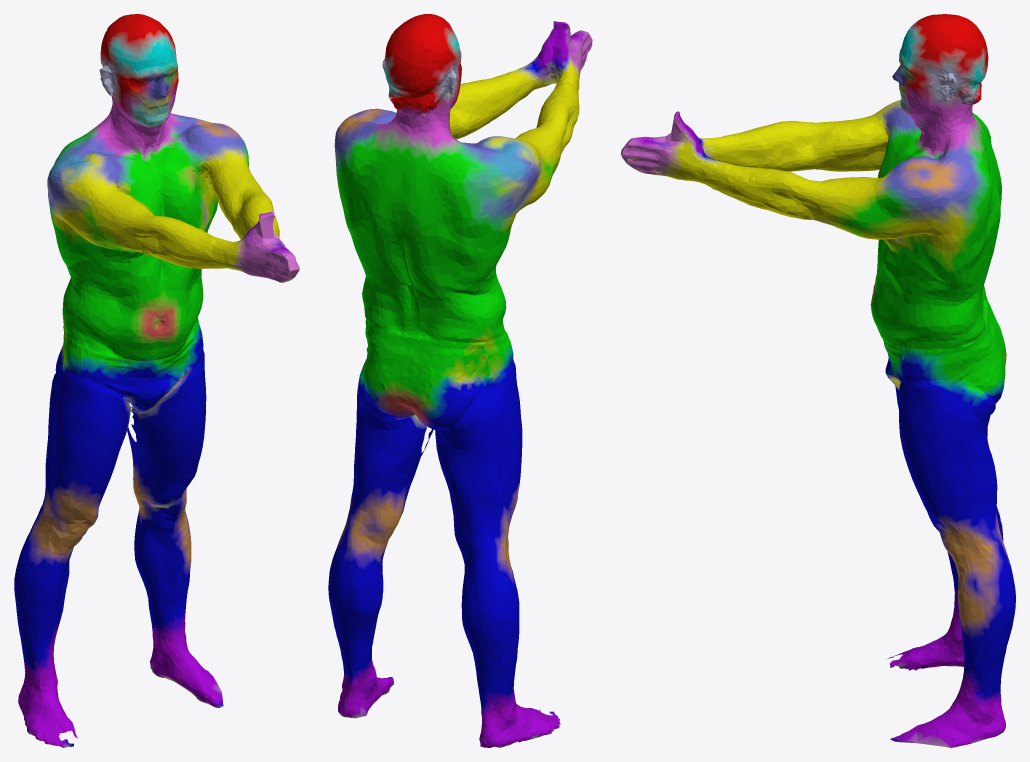
The model's file is 153_output_fine_grained.glb.
The picture shows the model from 3 angles, left to right: view 1: azimuth 30°, elevation 25°; view 2: azimuth 150°, elevation 25°; view 3: azimuth 270°, elevation 25°; orthographic projection.
Visible parts, largest first — view 1: 153_output_fine_grained.obj; view 2: 153_output_fine_grained.obj; view 3: 153_output_fine_grained.obj.
Boxes of the visible parts, x1=… form: 153_output_fine_grained.obj: x1=14, y1=14, x2=299, y2=747; 153_output_fine_grained.obj: x1=328, y1=14, x2=592, y2=747; 153_output_fine_grained.obj: x1=621, y1=14, x2=1015, y2=747.
Bounding box in the file's own units: 0.5766 × 1.81 × 0.9267.
